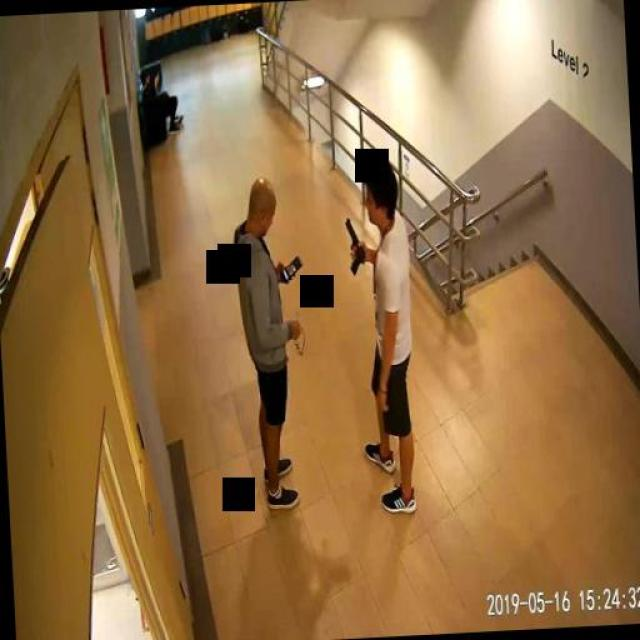gun: (344, 215, 365, 274)
